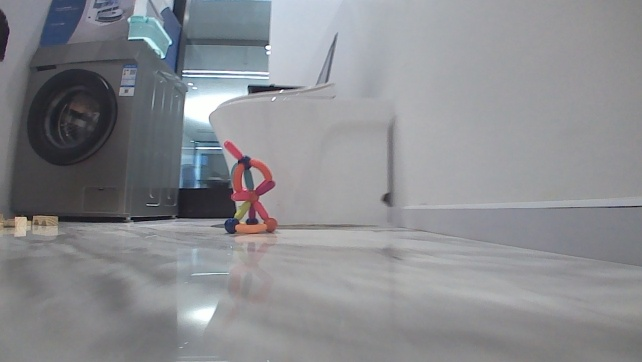plastic_toy: (221, 140, 277, 235)
toilet: (207, 81, 394, 228)
washing_machine: (9, 38, 189, 223)
